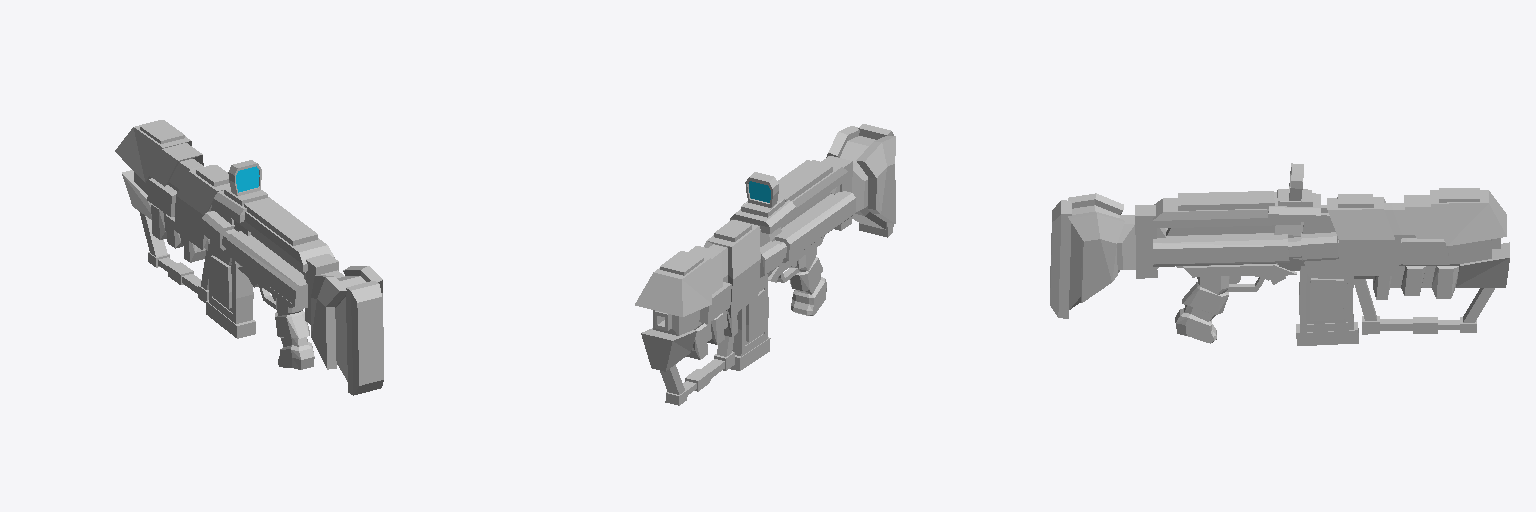
The model's file is Shotgun.obj.
The picture shows the model from 3 angles: view 1: azimuth 30°, elevation 25°; view 2: azimuth 150°, elevation 25°; view 3: azimuth 270°, elevation 25°; orthographic projection.
Visible parts, largest first — view 1: Shotgun; view 2: Shotgun; view 3: Shotgun.
Boxes of the visible parts, <box> form: Shotgun: <box>115,120,383,395</box>; Shotgun: <box>635,124,895,405</box>; Shotgun: <box>1050,163,1509,345</box>.
Bounding box in the file's own units: 0.043 × 0.1226 × 0.2954.